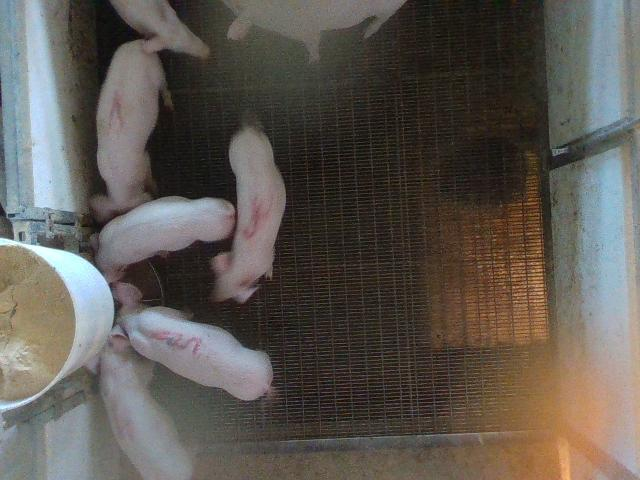pig-1: (91, 40, 171, 222)
pig-3: (110, 281, 272, 400)
pig-4: (99, 335, 190, 479)
pig-5: (211, 125, 286, 302)
